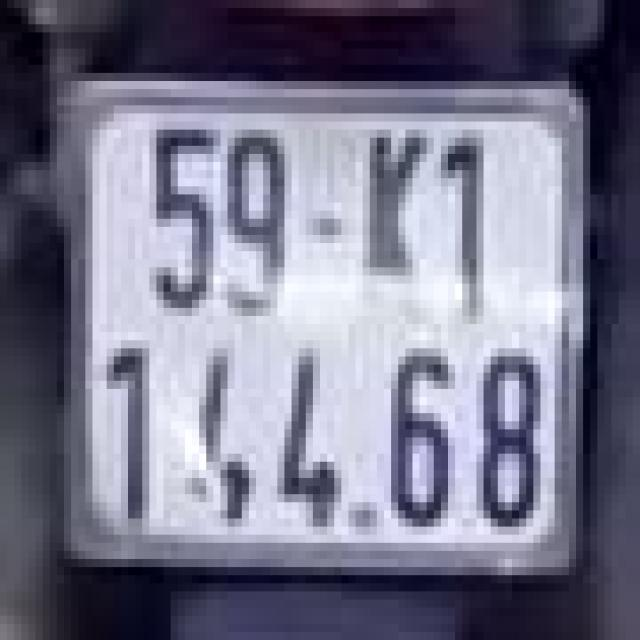1: (99, 332, 185, 559), (455, 105, 526, 324)
4: (188, 336, 266, 547), (284, 336, 362, 547)
5: (139, 93, 224, 320)
6: (391, 332, 484, 551)
8: (466, 328, 551, 539)
9: (224, 101, 309, 336)
K: (366, 109, 459, 328)
